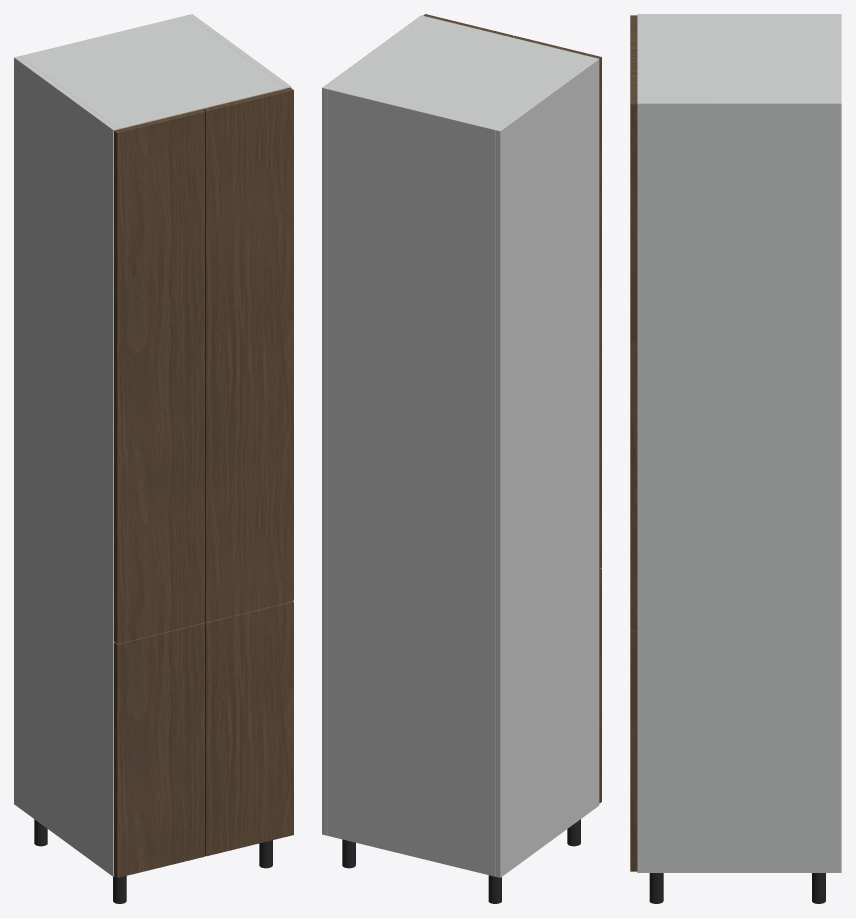
Rendered from oppein-ply-mso-pc2496.glb.
3 renders of one model, left to right at view 1: azimuth 30°, elevation 25°; view 2: azimuth 150°, elevation 25°; view 3: azimuth 270°, elevation 25°, orthographic. The views are drawn at different scales.
Visible parts, largest first — view 1: Cabinet side, Upper pantry door, Upper pantry door.001, Lower pantry door, Lower pantry door.001, Cabinet top, Cabinet side.001; view 2: Cabinet back, Cabinet side, Cabinet top, Cabinet side.001, Upper pantry door, Lower pantry door; view 3: Cabinet side.001, Cabinet top, Upper pantry door.001, Lower pantry door.001, Cabinet side, Adjustable foot.003.
Part boxes in pixels (x1=…): Cabinet side: x1=14, y1=56, x2=118, y2=876; Upper pantry door: x1=114, y1=109, x2=204, y2=643; Upper pantry door.001: x1=202, y1=87, x2=293, y2=621; Lower pantry door: x1=114, y1=622, x2=204, y2=877; Lower pantry door.001: x1=204, y1=601, x2=293, y2=856; Cabinet top: x1=21, y1=16, x2=285, y2=129; Cabinet side.001: x1=187, y1=14, x2=291, y2=88; Cabinet back: x1=327, y1=87, x2=496, y2=876; Cabinet side: x1=495, y1=57, x2=599, y2=877; Cabinet top: x1=329, y1=16, x2=593, y2=134; Cabinet side.001: x1=322, y1=15, x2=425, y2=835; Upper pantry door: x1=512, y1=35, x2=601, y2=568; Lower pantry door: x1=599, y1=568, x2=601, y2=803; Cabinet side.001: x1=637, y1=101, x2=841, y2=872; Cabinet top: x1=637, y1=16, x2=837, y2=100; Upper pantry door.001: x1=630, y1=60, x2=637, y2=630; Lower pantry door.001: x1=630, y1=630, x2=637, y2=871; Cabinet side: x1=637, y1=14, x2=841, y2=16; Adjustable foot.003: x1=649, y1=873, x2=663, y2=903.
Size of the model in its own units: 0.6096 by 2.55 by 0.6064.
Materials: 3 (1 with a texture image).
